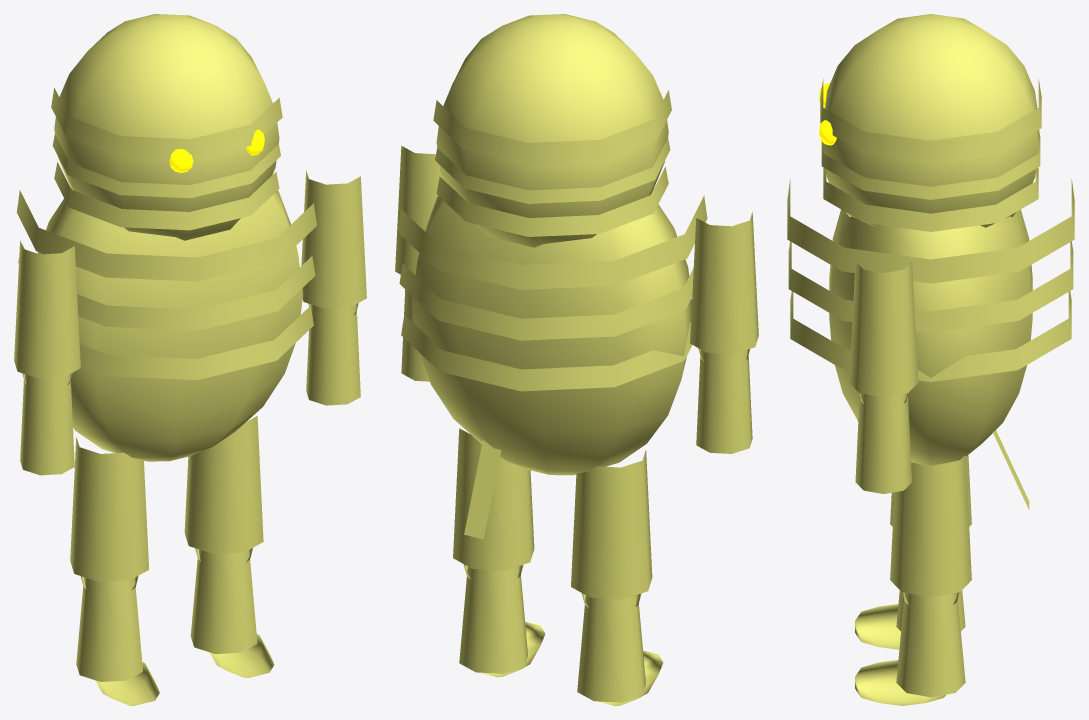
The model's file is cursed-mummy.glb.
3 views of the same model, side by side, from view 1: azimuth 30°, elevation 25°; view 2: azimuth 150°, elevation 25°; view 3: azimuth 270°, elevation 25° (orthographic). The views are drawn at different scales.
Visible parts, largest first — view 1: Body, Head, Leg_L, Leg_R, Arm_L, Arm_R; view 2: Body, Head, Leg_L, Leg_R, Arm_L, Arm_R, Extra; view 3: Head, Body, Leg_R, Arm_R, Leg_L.
Part boxes in pixels (left/top/right/bottom): Body: left=16, top=188, right=316, bottom=461; Head: left=51, top=14, right=282, bottom=240; Leg_L: left=70, top=437, right=159, bottom=705; Leg_R: left=184, top=416, right=274, bottom=677; Arm_L: left=14, top=240, right=80, bottom=475; Arm_R: left=301, top=170, right=366, bottom=405; Body: left=398, top=193, right=707, bottom=475; Head: left=433, top=14, right=671, bottom=247; Leg_L: left=571, top=450, right=663, bottom=705; Leg_R: left=453, top=428, right=545, bottom=677; Arm_L: left=690, top=212, right=758, bottom=453; Arm_R: left=395, top=146, right=443, bottom=381; Extra: left=464, top=440, right=501, bottom=539; Head: left=819, top=14, right=1041, bottom=231; Body: left=787, top=179, right=1074, bottom=465; Leg_R: left=855, top=456, right=971, bottom=705; Arm_R: left=849, top=261, right=918, bottom=493; Leg_L: left=855, top=455, right=971, bottom=649.
Size of the model in its own units: 2.54 by 4.57 by 1.83.
